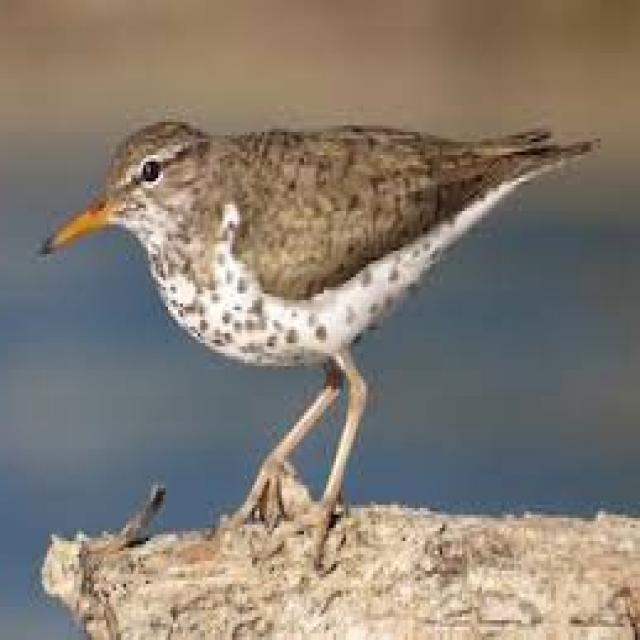sandpiper: (42, 119, 598, 521)
